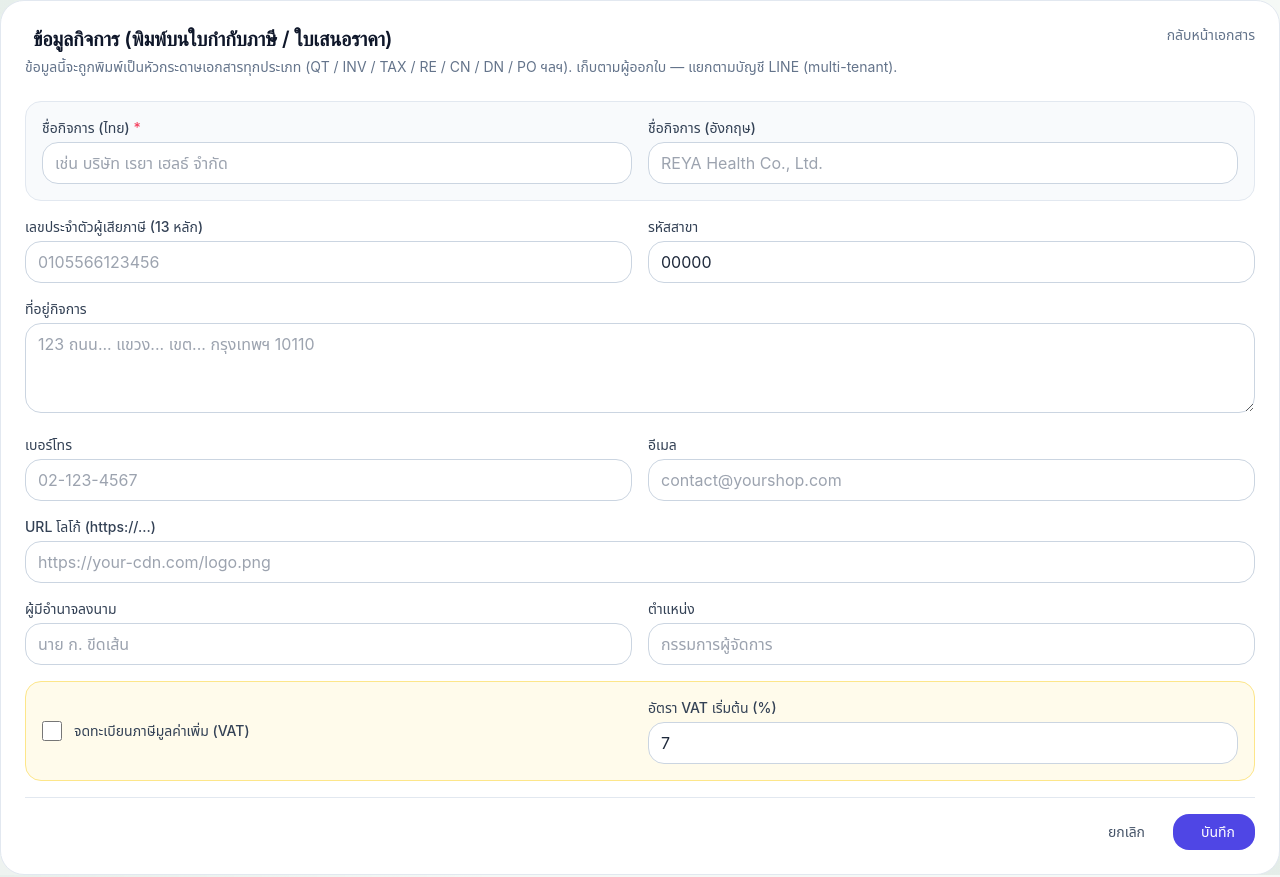
Test: ShopTaxTab — submit › sends is_vat_registered=1 when the checkbox is checked before submit
Type "ร้านยา ทดสอบ" into the field with placeholder "เช่น บริษัท เรยา เฮลธ์ จำกัด".
click(337, 163); type("ร้านยา ทดสอบ")  # box x1=42 y1=142 x2=632 y2=184
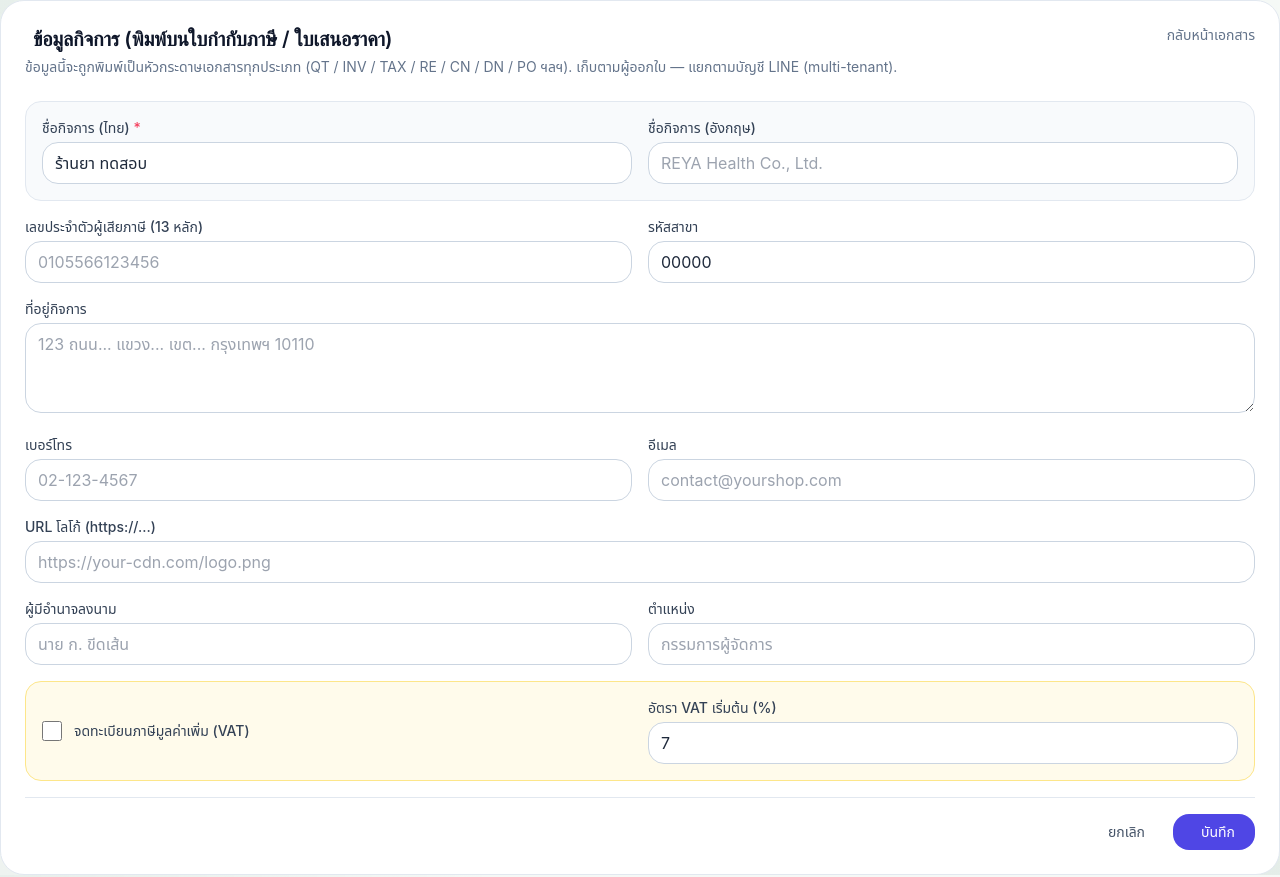
Click the checkbox labelled "จดทะเบียนภาษีมูลค่าเพิ่ม (VAT)".
click(52, 731)  # box x1=42 y1=721 x2=62 y2=741
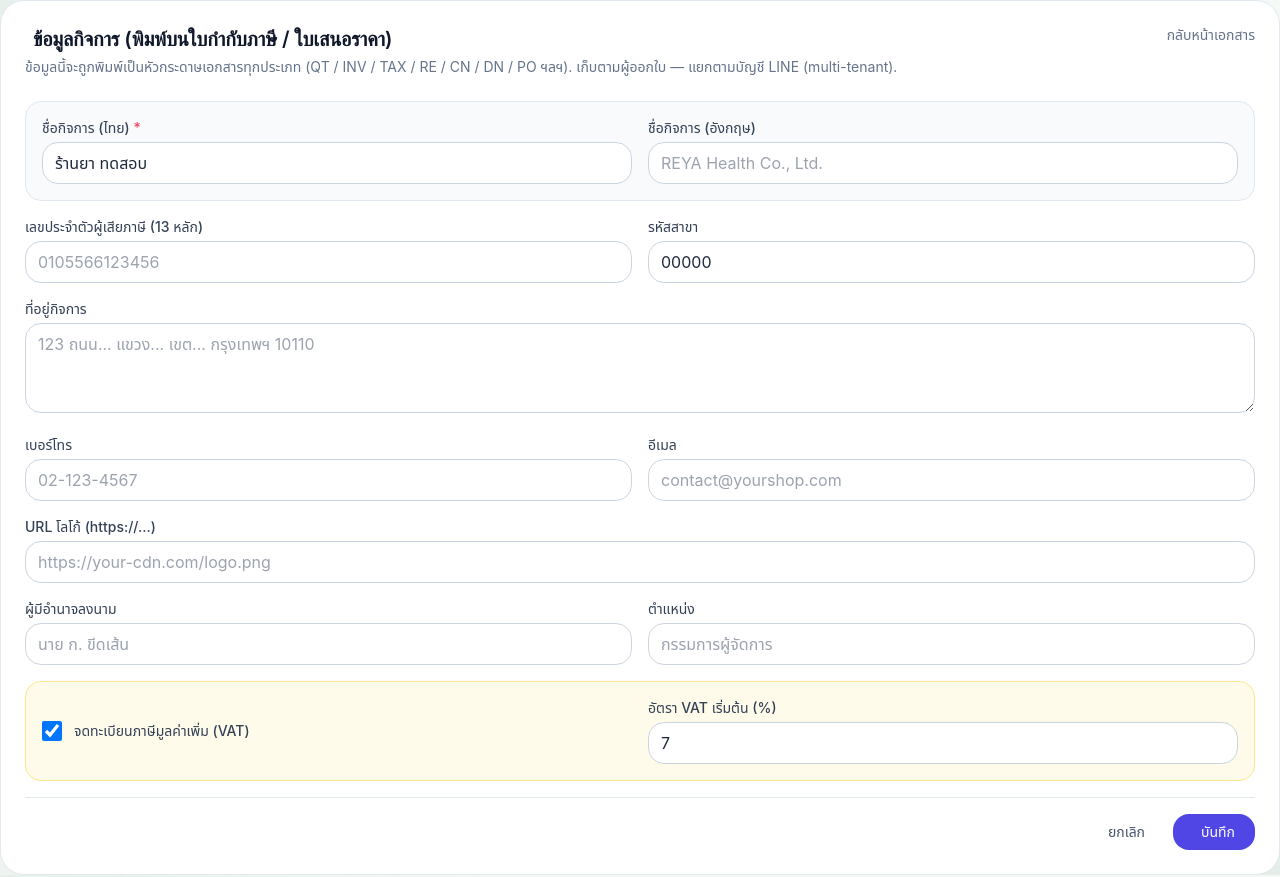
Click the button "บันทึก".
click(1214, 832)  # box x1=1173 y1=814 x2=1255 y2=850
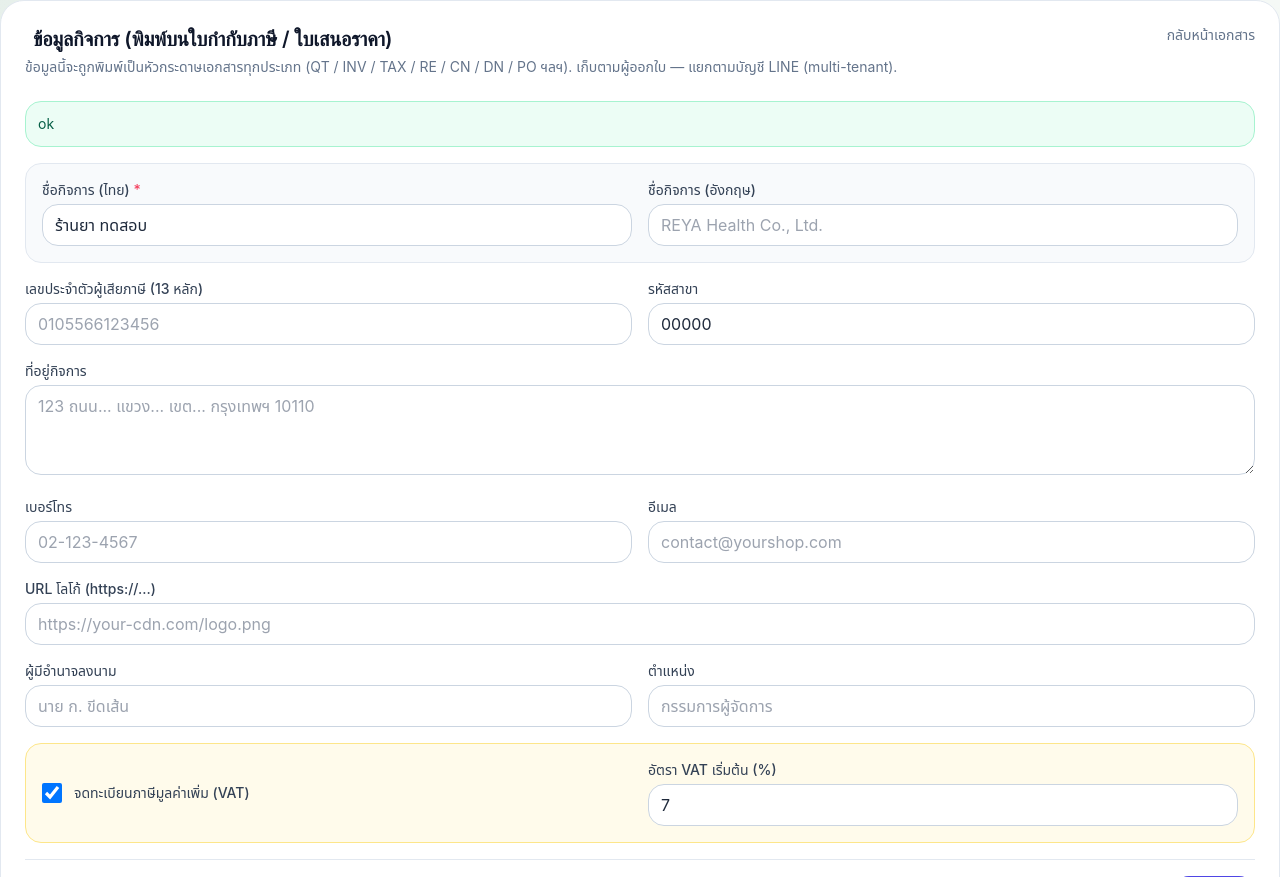
Expected: the message "ok" is shown, x1=25 y1=101 x2=1255 y2=147
